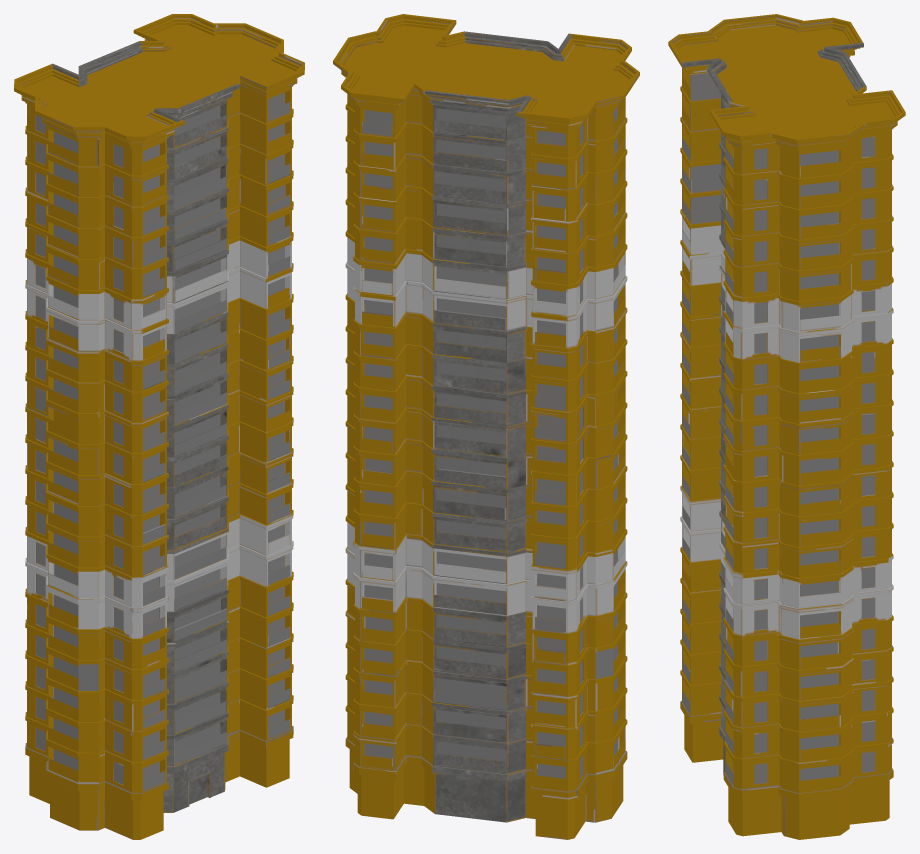
File: city_3d_model_33.glb
The picture shows the model from 3 angles, left to right: view 1: azimuth 30°, elevation 25°; view 2: azimuth 150°, elevation 25°; view 3: azimuth 270°, elevation 25°; orthographic projection. The views are drawn at different scales.
Visible parts, largest first — view 1: Object_322; view 2: Object_322; view 3: Object_322.
Boxes of the visible parts, left/top/right/bottom form: Object_322: left=14, top=14, right=304, bottom=839; Object_322: left=333, top=14, right=639, bottom=839; Object_322: left=668, top=14, right=905, bottom=839.
Size of the model in its own units: 8.84 by 23.13 by 7.04.
Materials: 1 (1 with a texture image).
